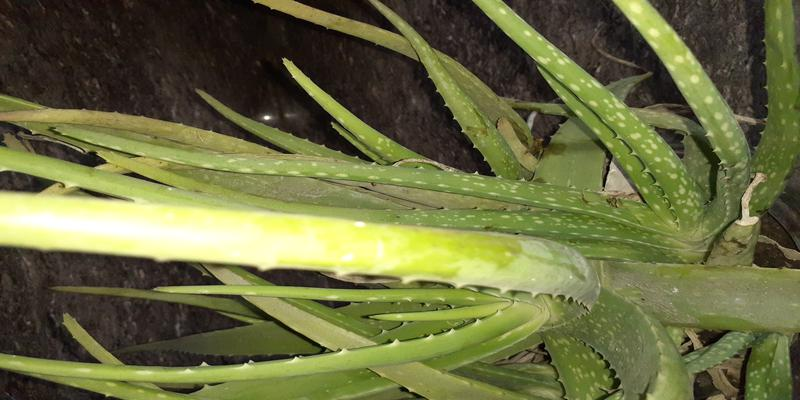Aloevera: (75, 115, 767, 373)
